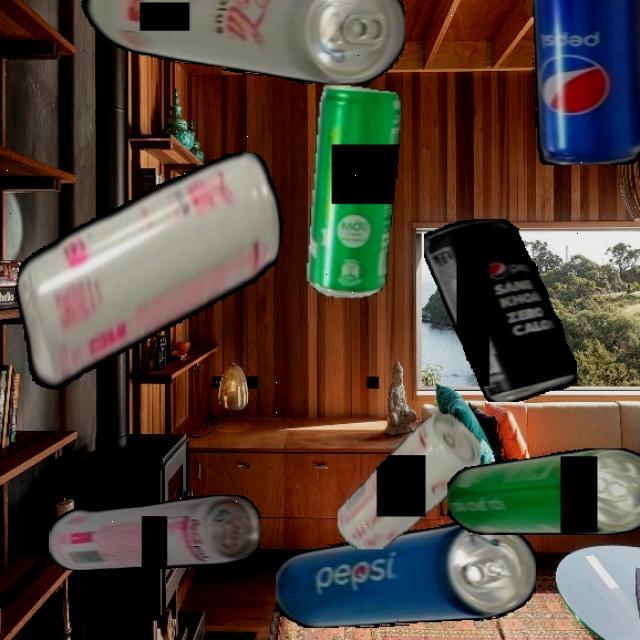debris: (0, 117, 295, 423), (424, 218, 577, 402), (74, 0, 405, 84), (275, 522, 536, 628), (306, 84, 402, 298), (336, 413, 481, 549), (532, 0, 640, 165), (446, 448, 640, 535), (48, 495, 260, 570)
